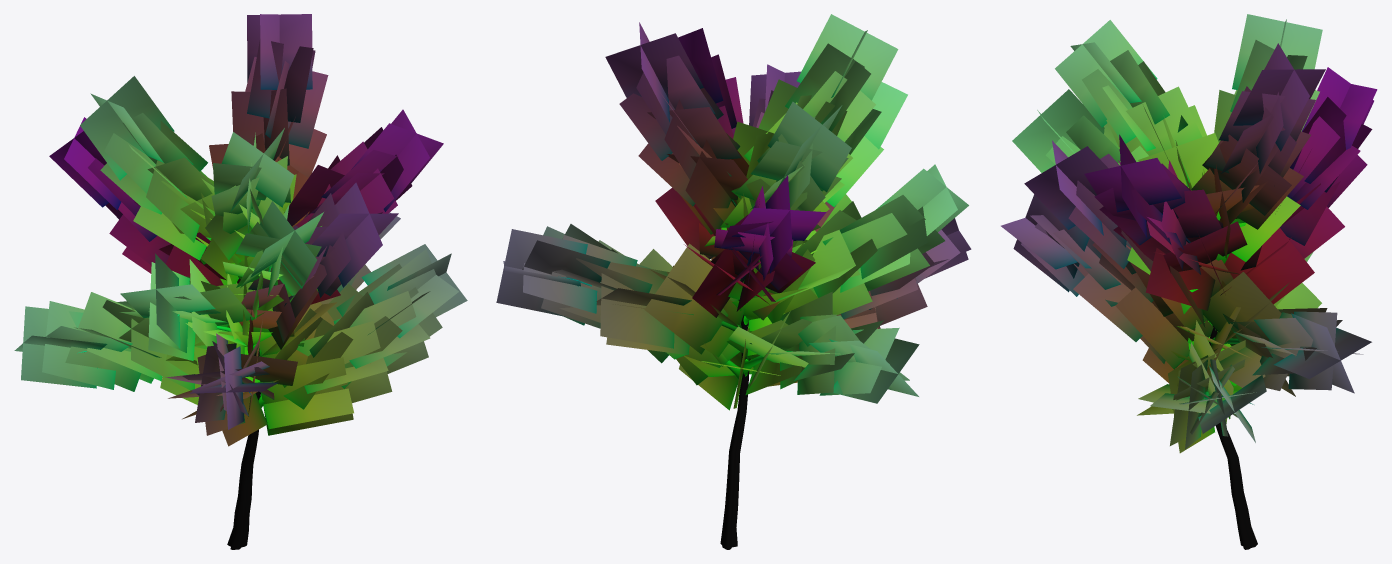
Rendered from URP_P6_Tree_11_LOD_1.fbx.
3 views of the same model, side by side, from view 1: azimuth 30°, elevation 25°; view 2: azimuth 150°, elevation 25°; view 3: azimuth 270°, elevation 25° (orthographic).
Visible parts, largest first — view 1: Tree_11_LOD_1; view 2: Tree_11_LOD_1; view 3: Tree_11_LOD_1.
Part boxes in pixels (x1,y1,x2,y2): Tree_11_LOD_1: [14, 14, 467, 549]; Tree_11_LOD_1: [496, 14, 971, 549]; Tree_11_LOD_1: [1001, 14, 1377, 549].
Bounding box in the file's own units: 953 × 1132 × 742.
